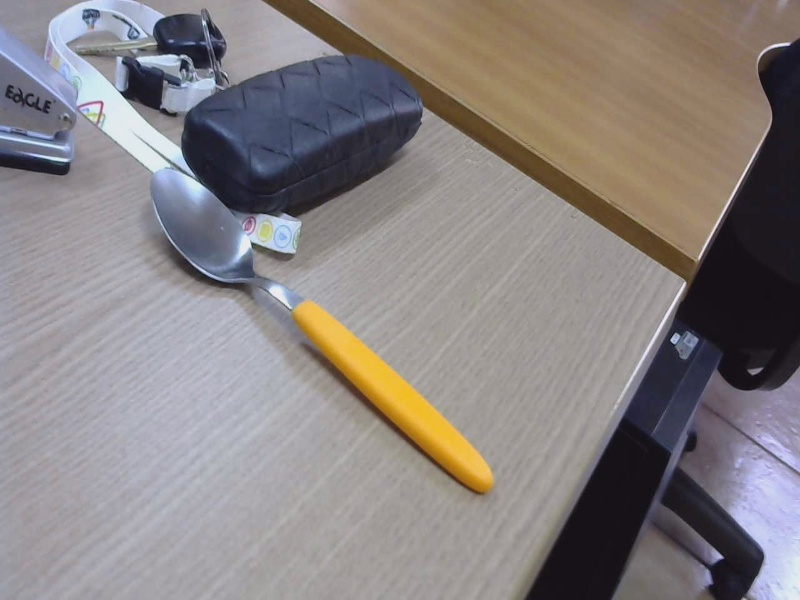cuchara: (135, 161, 536, 524)
